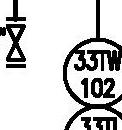instrumenttag: (62, 36, 122, 107), (62, 108, 122, 129)
verticalvalve: (5, 23, 28, 67)
